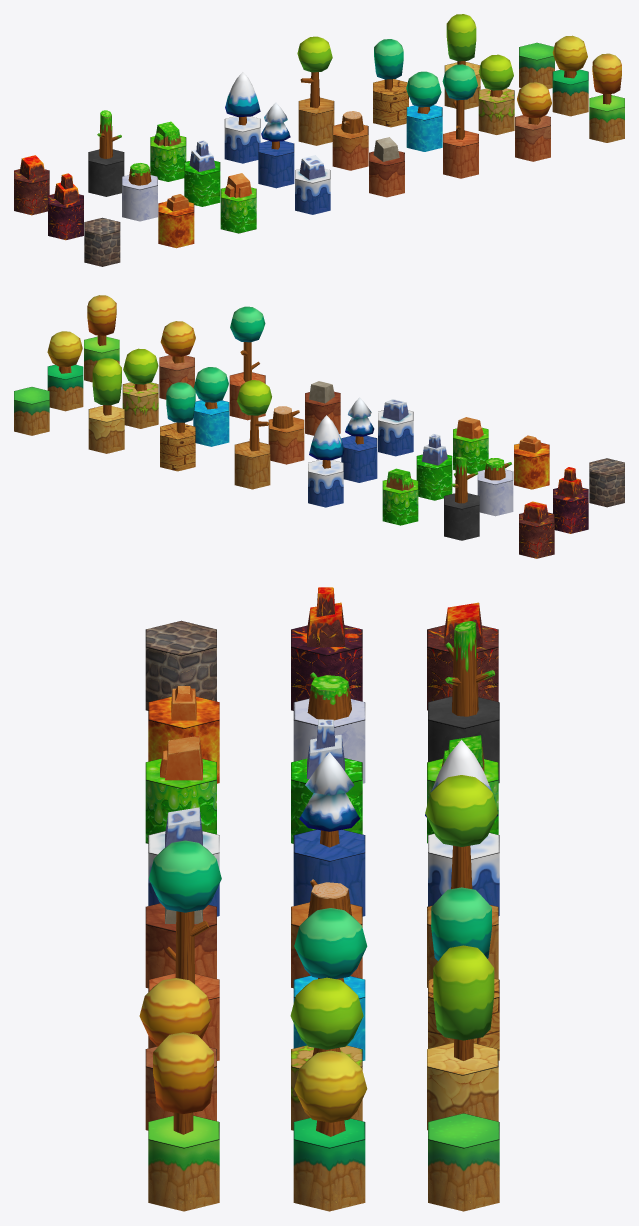
The model's file is hexagon_new.FBX.
3 views of the same model, one above another, from view 1: azimuth 30°, elevation 25°; view 2: azimuth 150°, elevation 25°; view 3: azimuth 270°, elevation 25° (orthographic). The views are drawn at different scales.
Visible parts, largest first — view 1: s_24, s_14, s_09, s_13, s_02, s_03, s_08, s_05, s_10, s_07, s_19, s_06 (+33 smaller); view 2: s_24, s_01, s_04, s_10, s_13, s_07, s_14, s_05, s_19, s_02, s_08, s_21 (+33 smaller); view 3: s_01, s_03, s_02, tree_09, tree_05, s_24, s_04, tree_10, tree_03, tree_02, s_14, tree_06 (+32 smaller).
Part boxes in pixels (x1,y1,x2,y2): s_24: (84, 217, 120, 266); s_14: (258, 141, 294, 188); s_09: (443, 130, 478, 178); s_13: (224, 116, 260, 163); s_02: (552, 69, 588, 116); s_03: (589, 95, 624, 142); s_08: (406, 105, 442, 151); s_05: (478, 88, 514, 134); s_10: (298, 97, 334, 145); s_07: (373, 79, 408, 127); s_19: (88, 149, 124, 196); s_06: (515, 115, 550, 161); s_24: (589, 458, 624, 507); s_01: (14, 387, 49, 435); s_04: (88, 405, 124, 453); s_10: (234, 441, 270, 489); s_13: (308, 459, 343, 507); s_07: (160, 422, 195, 471); s_14: (341, 435, 377, 482); s_05: (122, 382, 158, 428); s_19: (444, 493, 479, 540); s_02: (47, 364, 83, 411); s_08: (193, 400, 229, 446); s_21: (514, 442, 549, 489); s_01: (428, 1113, 499, 1211); s_03: (148, 1115, 219, 1211); s_02: (293, 1118, 365, 1211); tree_09: (148, 840, 221, 983); tree_05: (433, 945, 494, 1060); s_24: (145, 620, 216, 710); s_04: (427, 1042, 498, 1130); tree_10: (425, 775, 497, 889); tree_03: (153, 1032, 213, 1134); tree_02: (294, 1050, 367, 1136); s_14: (293, 829, 365, 916); tree_06: (290, 977, 363, 1056).
Size of the model in its own units: 1511 by 276 by 436.
